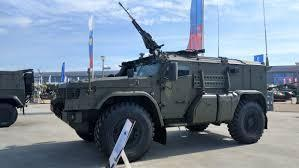armored_car: (49, 11, 277, 150), (0, 67, 38, 140)
